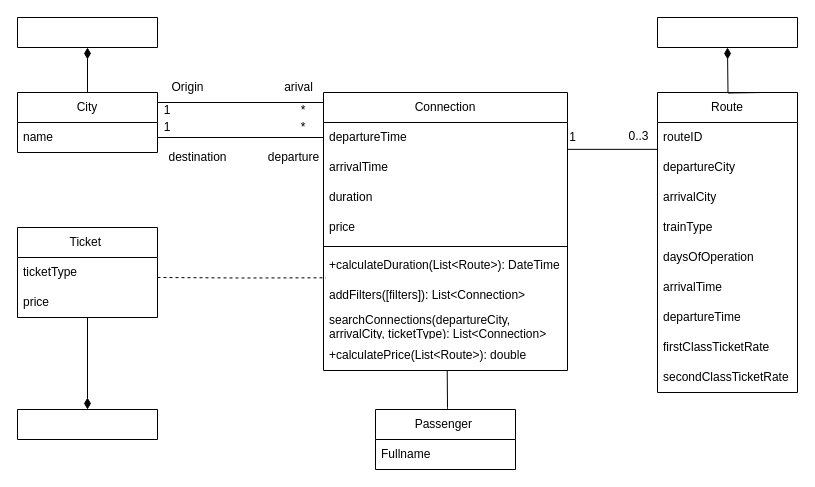
Image size: 815x487. Some labels were removed from this diagram. Each missing label, with the centre of its shape:
CityCatalogue: (x=87, y=32)
RouteCatalogue: (x=727, y=32)
TicketCatalogue: (x=87, y=424)
